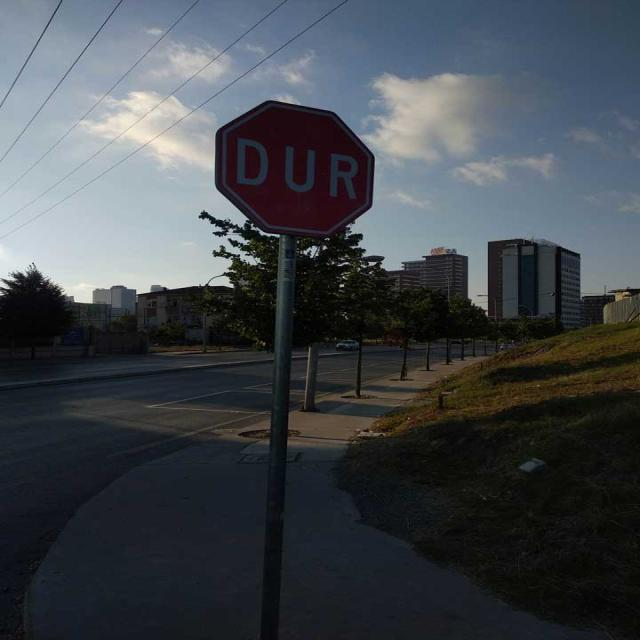dur: (215, 100, 376, 238)
